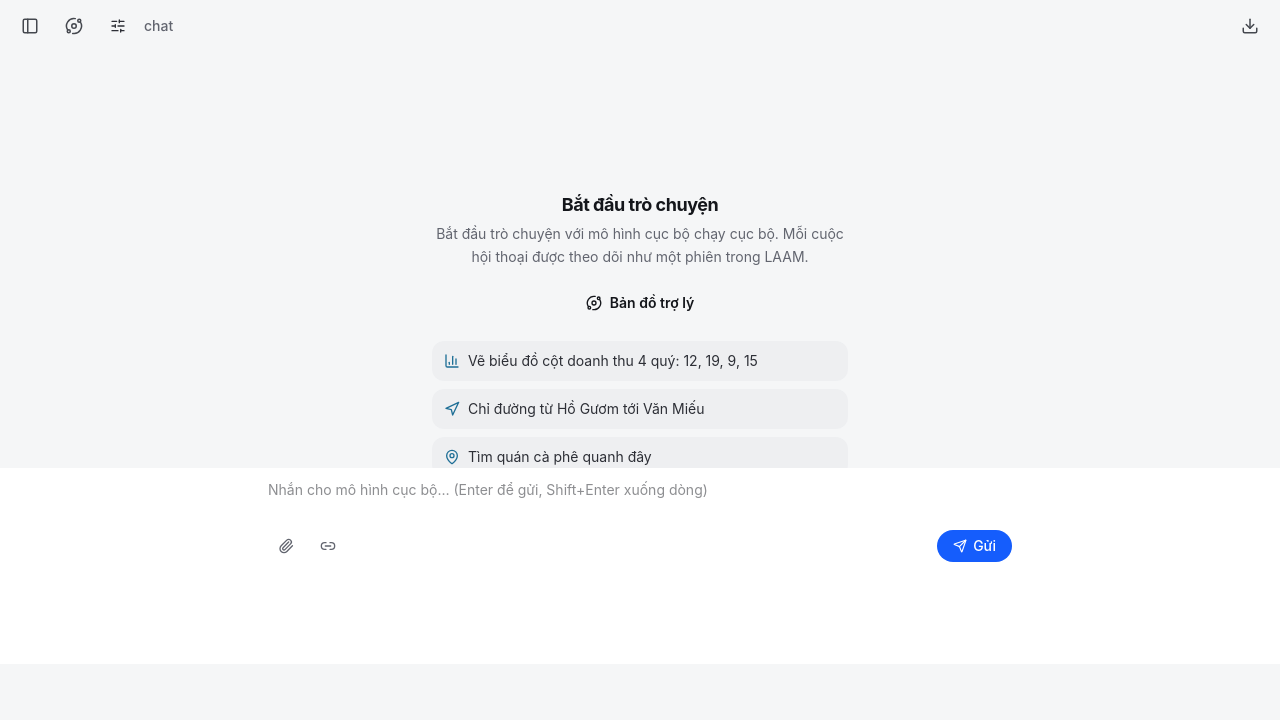
Test: toolPick với args đủ + text rỗng → gửi message mặc định
Replace the text in the text box named "Soạn tin nhắn" with "/kg" at (640, 500), box [268,480,1012,520]
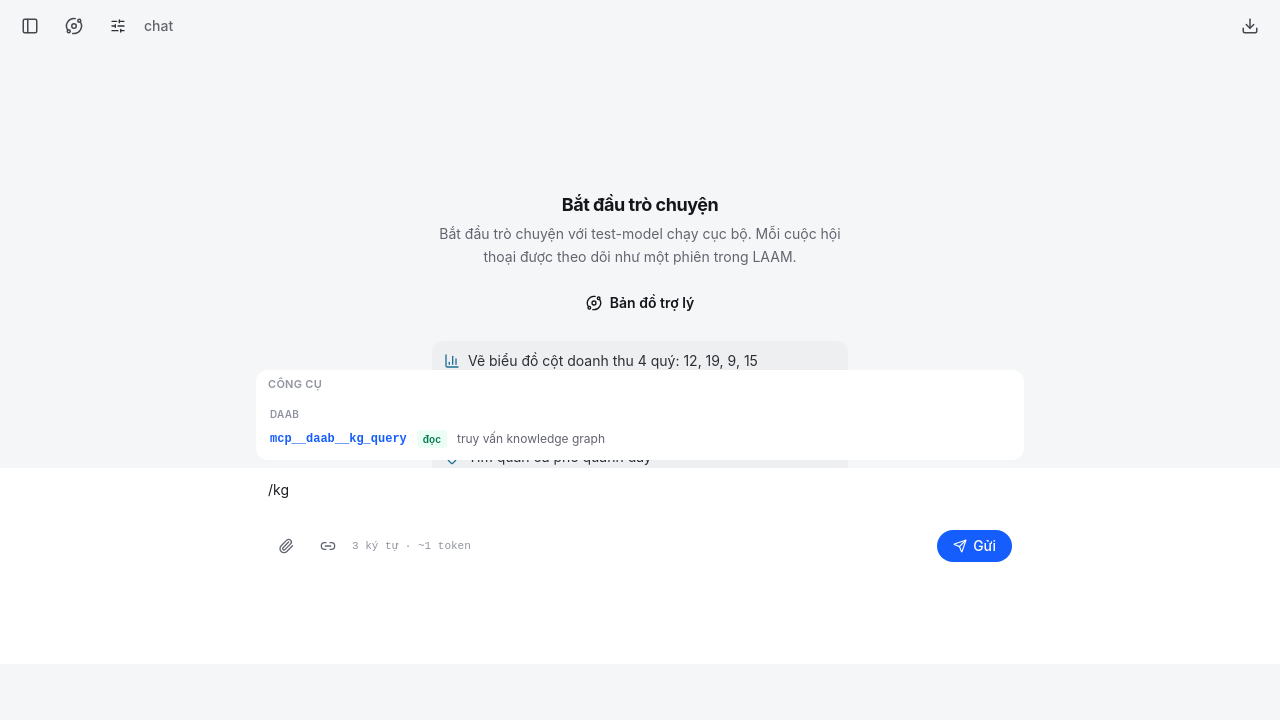
Click the text "mcp__daab__kg_query" at (338, 439), box [270,431,407,447]
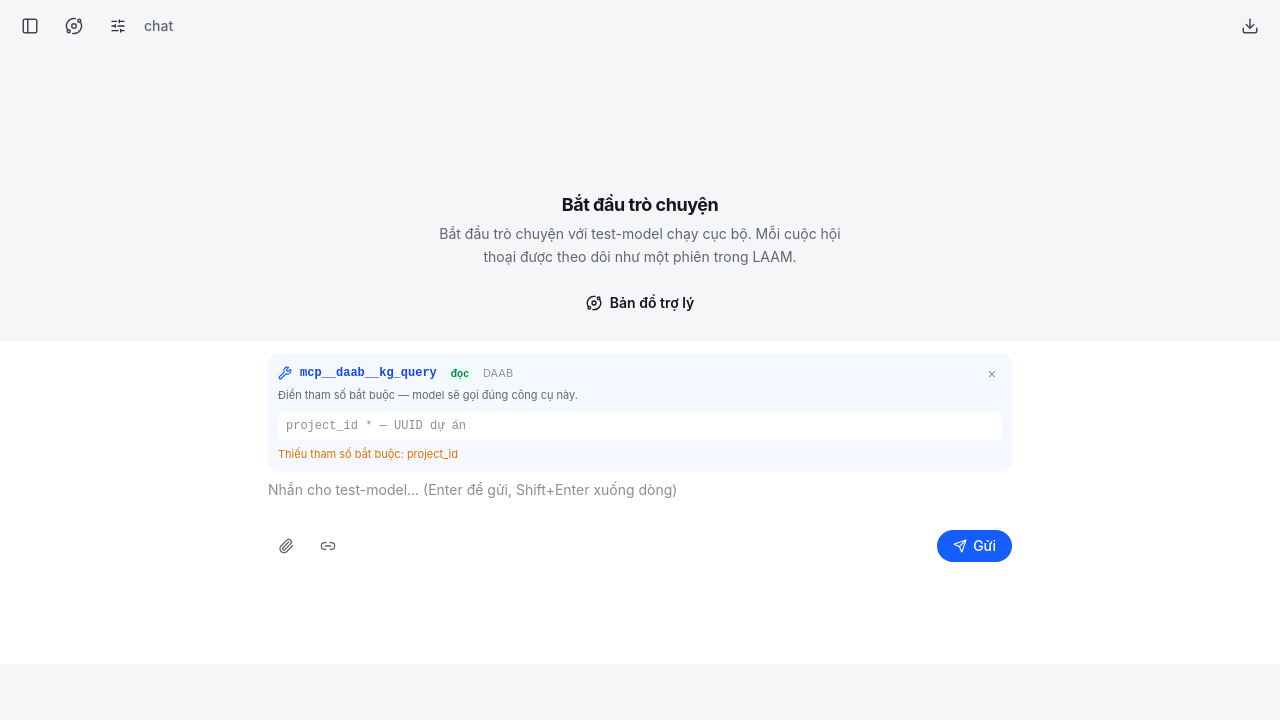
Type "u-1" into the field labelled "project_id" at (640, 426), box [278,412,1002,440]
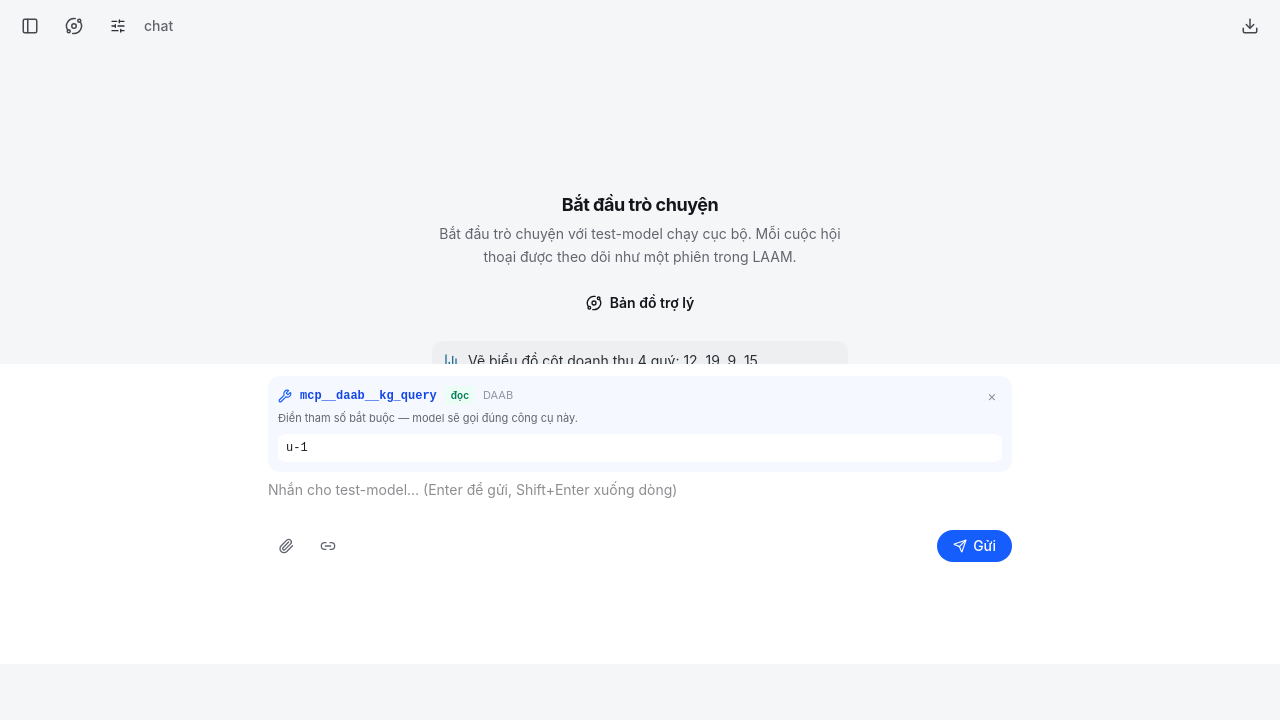
Click the button with aria-label "Gửi tin nhắn" at (975, 546), box [937,530,1012,562]
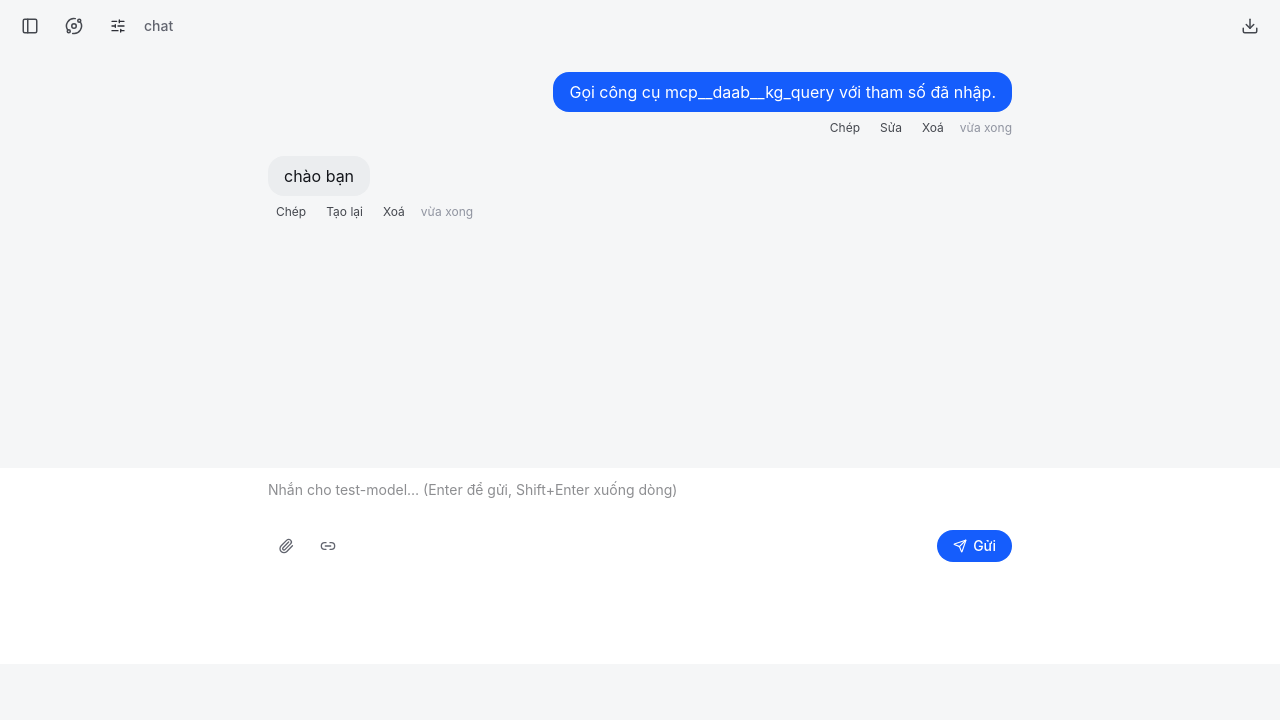
Now the text "Gọi công cụ mcp__daab__kg_query với tham số đã nhập." is shown, box [553,72,1012,112]
